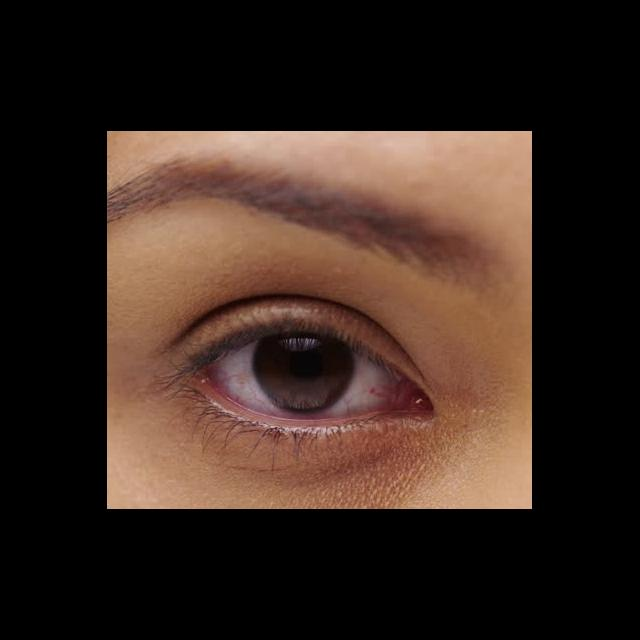eye: (210, 334, 397, 420)
iris: (253, 336, 356, 413)
